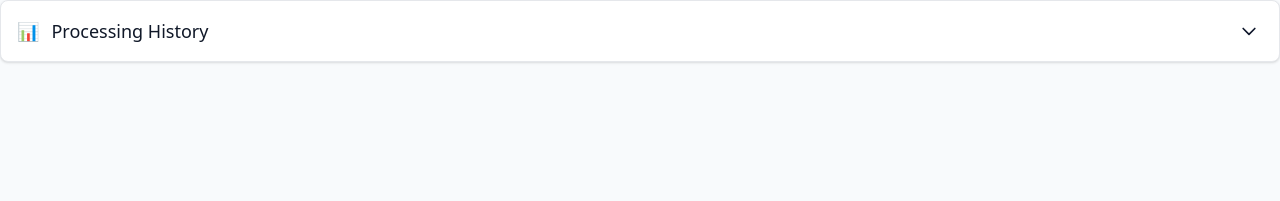
Test: ProcessingPanel › expands and shows the empty history state
Click the heading "Processing History": (130, 31) [52,17,208,45]
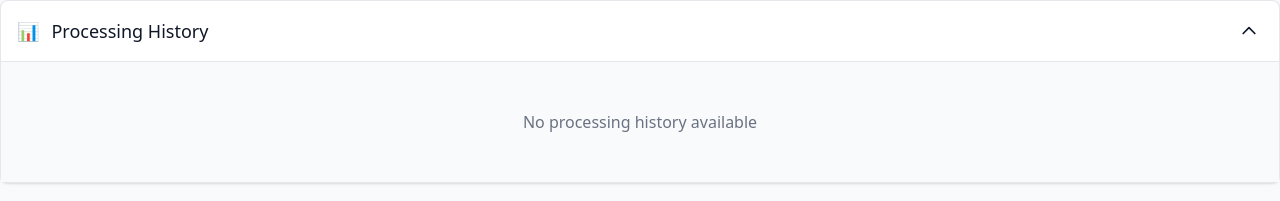
Expected: the text "No processing history available" is shown, [523,111,757,133]
